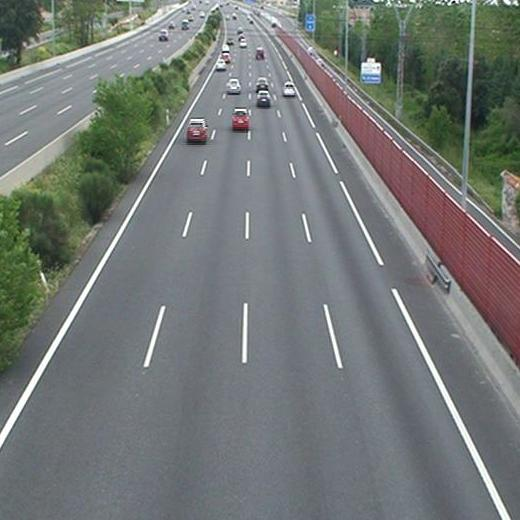car: (187, 119, 207, 142), (232, 109, 248, 129), (256, 92, 271, 106), (226, 79, 240, 93), (283, 83, 295, 96), (255, 78, 268, 90), (215, 59, 225, 69), (255, 48, 265, 58), (221, 50, 230, 60), (238, 38, 245, 48)
